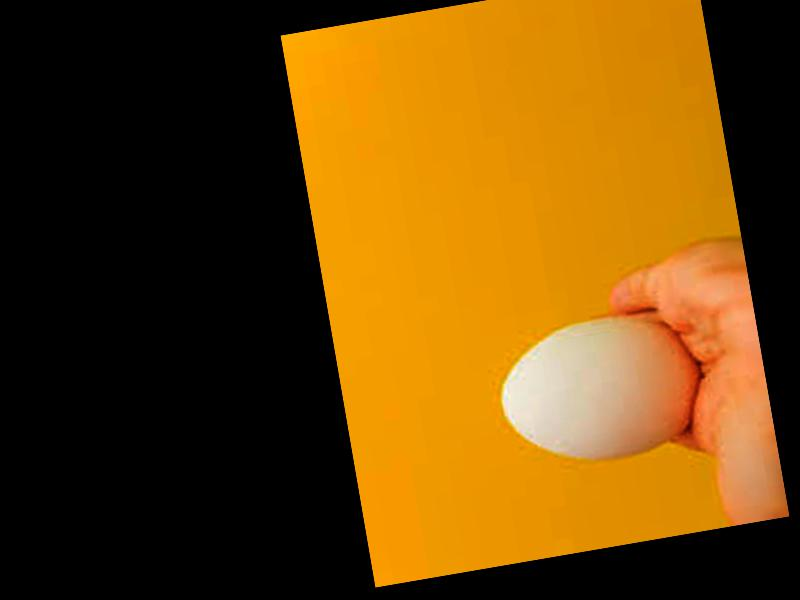Eggs: (489, 304, 708, 470)
